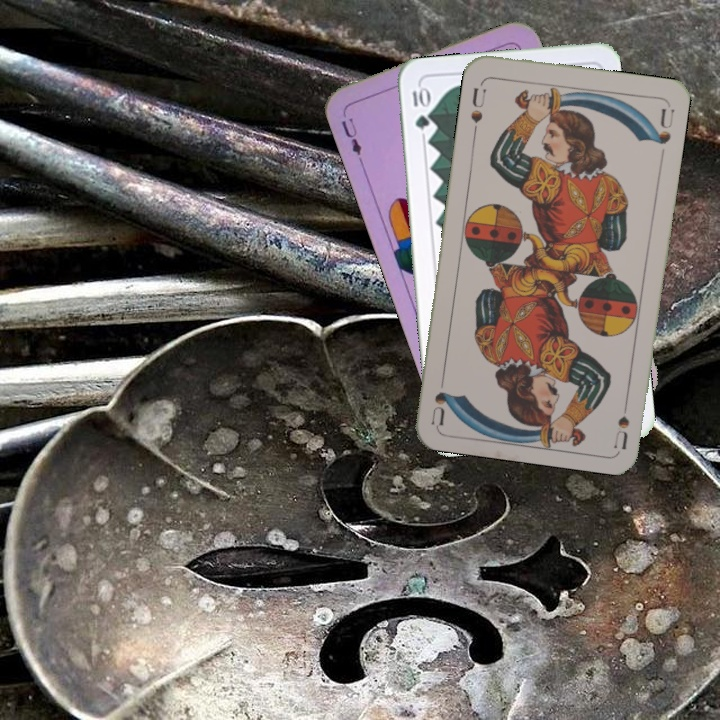EU: (337, 113, 365, 158)
G10: (408, 82, 432, 132)
SU: (609, 390, 632, 450), (466, 84, 489, 136)
